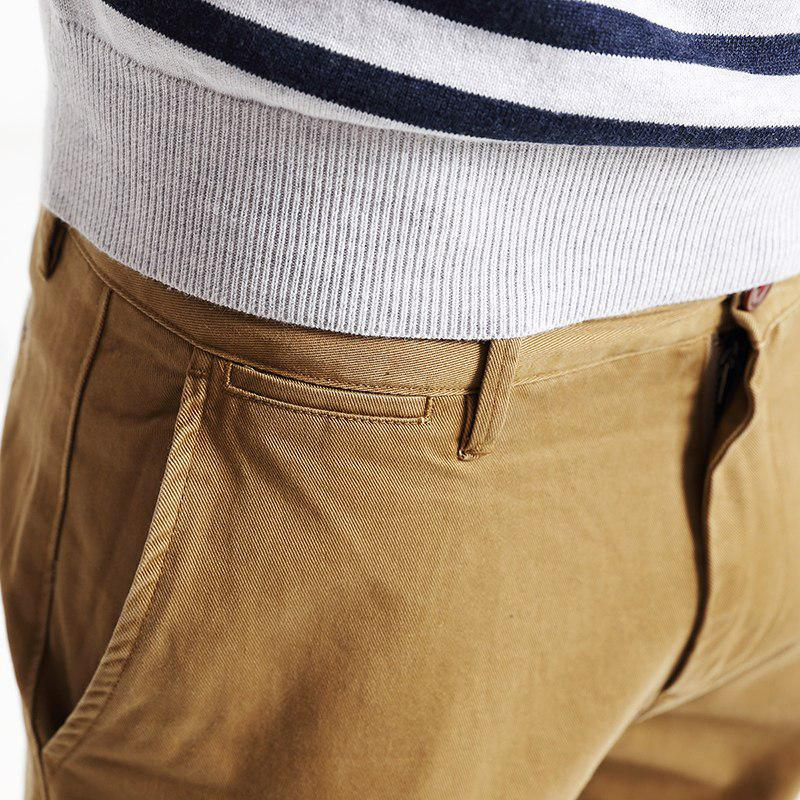pants: (12, 209, 800, 788)
